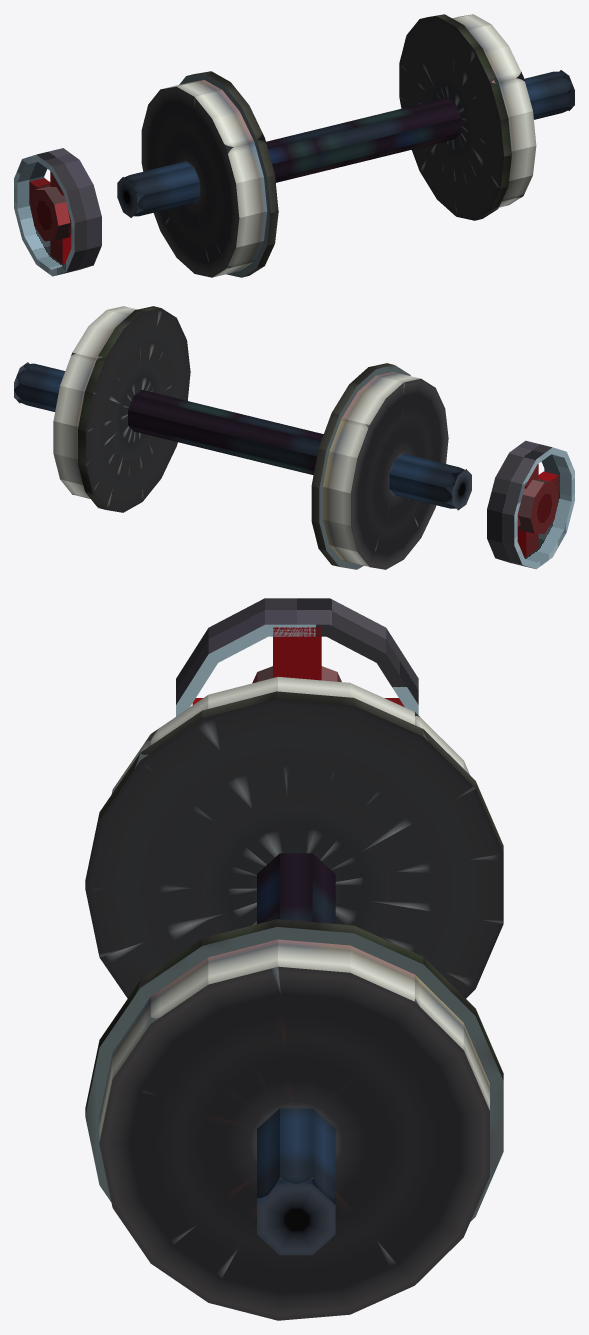
File: tkz2_motor_wheel.obj
The picture shows the model from 3 angles, top to bottom: view 1: azimuth 30°, elevation 25°; view 2: azimuth 150°, elevation 25°; view 3: azimuth 270°, elevation 25°; orthographic projection. The views are drawn at different scales.
Visible parts, largest first — view 1: cylinder_selection_selection_selection_selection; view 2: cylinder_selection_selection_selection_selection; view 3: cylinder_selection_selection_selection_selection.
Part boxes in pixels (x1,y1,x2,y2): cylinder_selection_selection_selection_selection: (14,14,574,277); cylinder_selection_selection_selection_selection: (14,306,574,569); cylinder_selection_selection_selection_selection: (85,598,503,1320).
Bounding box in the file's own units: 2.15 × 0.75 × 0.75.
